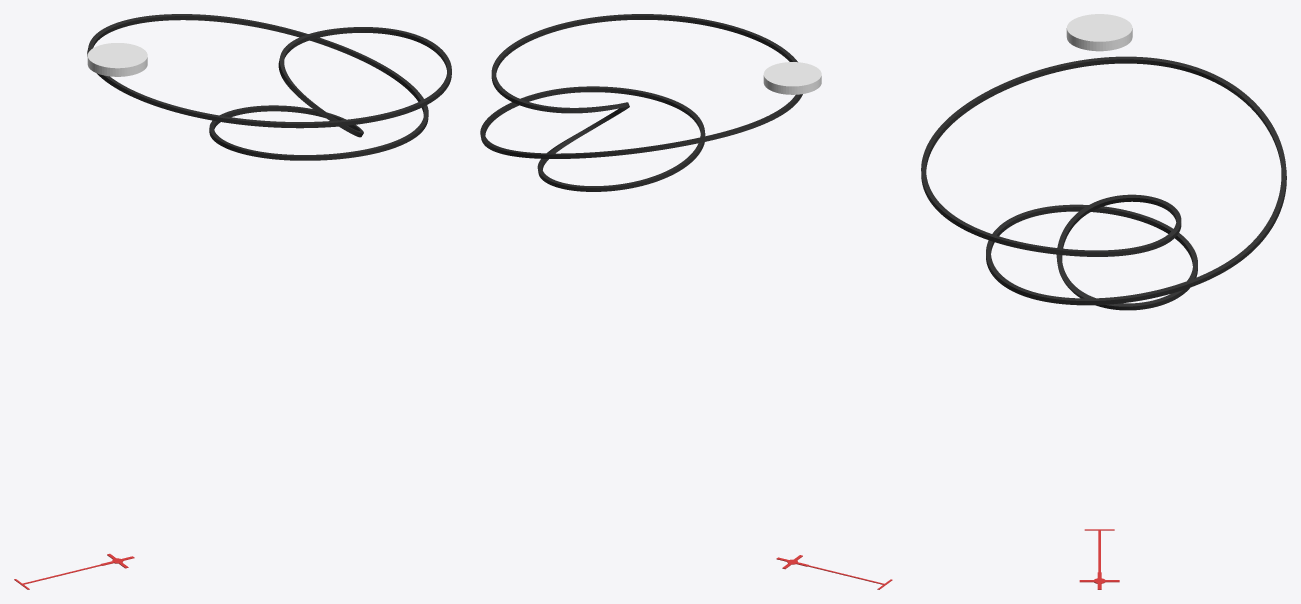
Rendered from pendant-seed4487-AR.glb.
The picture shows the model from 3 angles, left to right: view 1: azimuth 30°, elevation 25°; view 2: azimuth 150°, elevation 25°; view 3: azimuth 270°, elevation 25°; orthographic projection. The views are drawn at different scales.
Visible parts, largest first — view 1: pendant, electronics_box; view 2: pendant, electronics_box; view 3: pendant, electronics_box.
Part boxes in pixels (<box>): pendant: <box>87,14,451,160</box>; electronics_box: <box>87,43,147,76</box>; pendant: <box>480,14,802,191</box>; electronics_box: <box>763,62,821,94</box>; pendant: <box>921,56,1286,310</box>; electronics_box: <box>1066,14,1132,51</box>.
Bounding box in the file's own units: 2.53 × 3.03 × 1.81.
